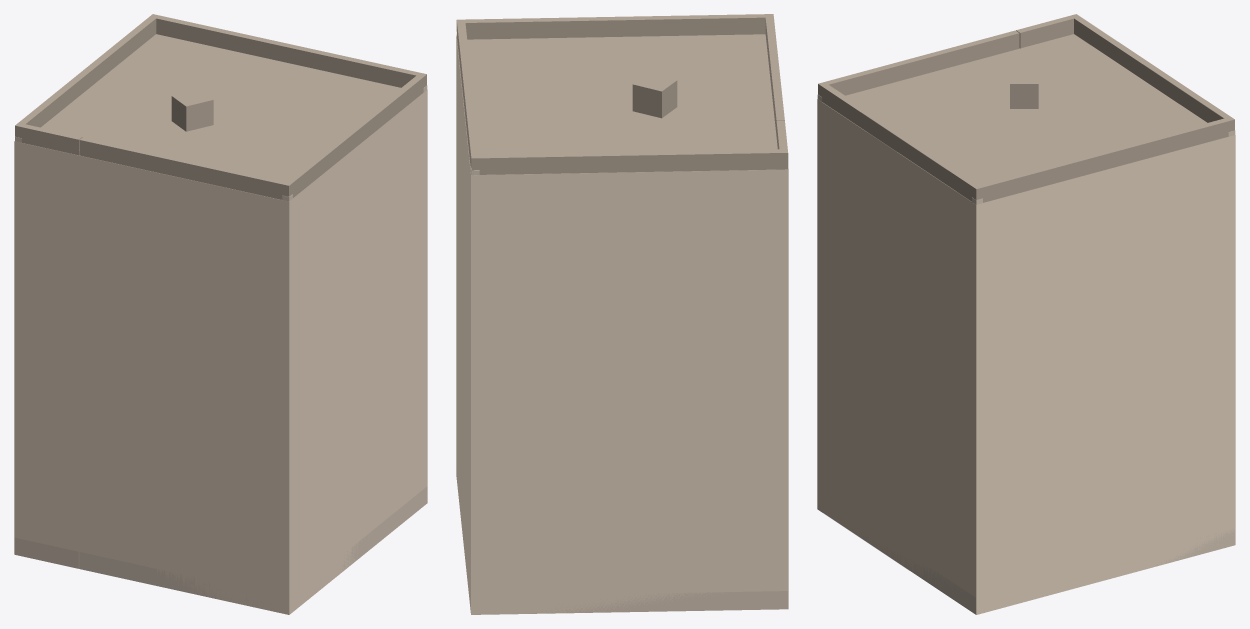
Rendered from cop_predio_historico_04__way_488128351.fbx.
3 renders of one model, left to right at view 1: azimuth 30°, elevation 25°; view 2: azimuth 150°, elevation 25°; view 3: azimuth 270°, elevation 25°, orthographic. The views are drawn at different scales.
Visible parts, largest first — view 1: cop_predio_historico_04__way_488128351_wall, cop_predio_historico_04__way_488128351_roof, cop_predio_historico_04__way_488128351_stone; view 2: cop_predio_historico_04__way_488128351_wall, cop_predio_historico_04__way_488128351_roof, cop_predio_historico_04__way_488128351_stone; view 3: cop_predio_historico_04__way_488128351_wall, cop_predio_historico_04__way_488128351_roof, cop_predio_historico_04__way_488128351_stone.
Boxes of the visible parts, bbox=[...] form: cop_predio_historico_04__way_488128351_wall: bbox=[14, 90, 427, 614]; cop_predio_historico_04__way_488128351_roof: bbox=[15, 14, 426, 201]; cop_predio_historico_04__way_488128351_stone: bbox=[14, 85, 427, 614]; cop_predio_historico_04__way_488128351_wall: bbox=[456, 37, 788, 614]; cop_predio_historico_04__way_488128351_roof: bbox=[456, 14, 788, 175]; cop_predio_historico_04__way_488128351_stone: bbox=[456, 32, 787, 614]; cop_predio_historico_04__way_488128351_wall: bbox=[817, 99, 1235, 614]; cop_predio_historico_04__way_488128351_roof: bbox=[818, 14, 1234, 204]; cop_predio_historico_04__way_488128351_stone: bbox=[817, 95, 1235, 614].
Bounding box in the file's own units: 1654 × 1912 × 1664.
